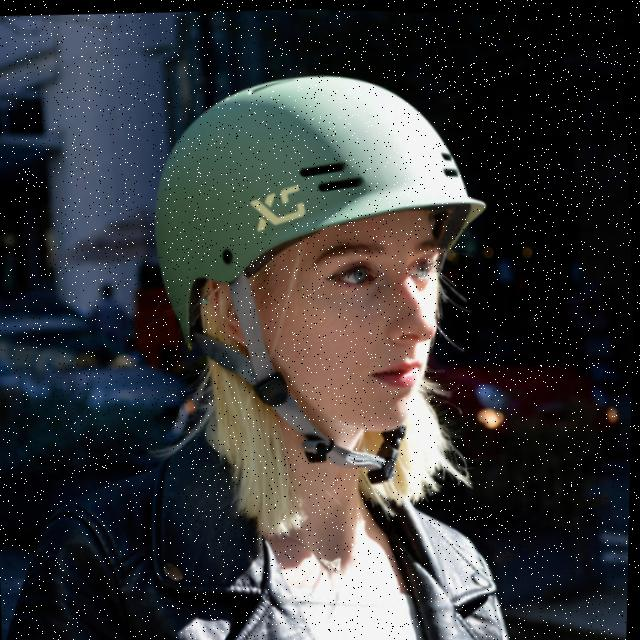illegal_helmet: (135, 55, 514, 506)
